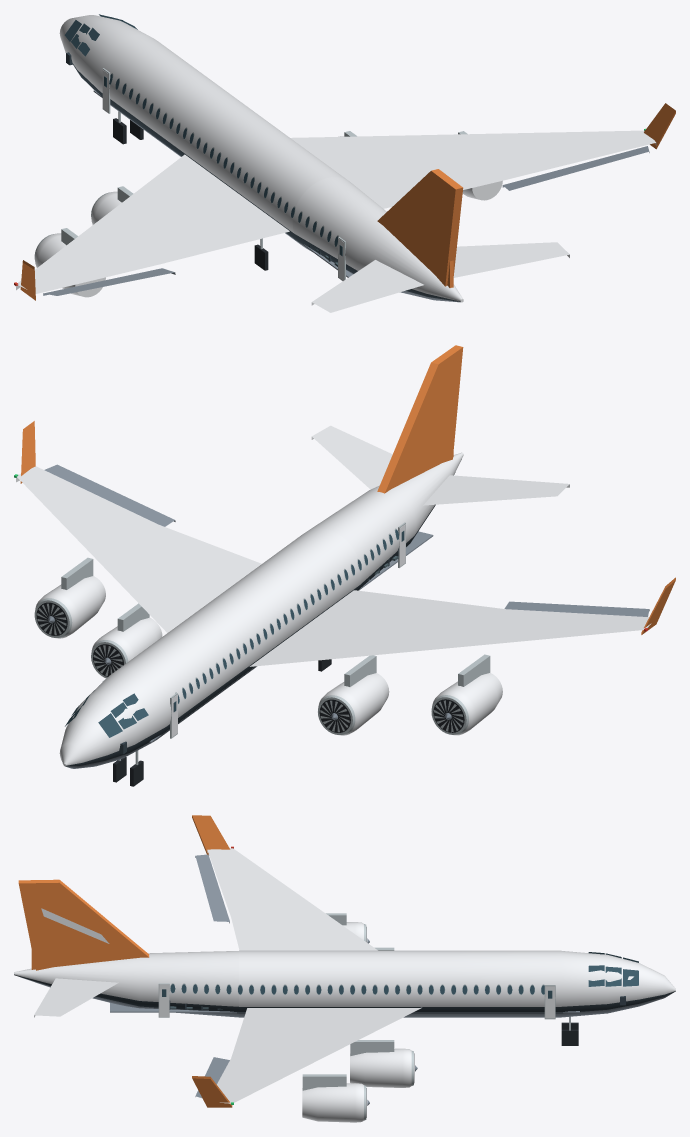
The model's file is meridian.glb.
3 renders of one model, top to bottom at view 1: azimuth 30°, elevation 25°; view 2: azimuth 150°, elevation 25°; view 3: azimuth 270°, elevation 25°, orthographic. The views are drawn at different scales.
Parts seen in each view (by area): view 1: wing_l, wing_r, body_mid, body_front, body_aft, tail, elevator, engine_l, cabin_windows, aileron_r, aileron_l, gear (+3 smaller); view 2: wing_l, wing_r, body_front, body_mid, engine_l, body_aft, engine_r, tail, elevator, cabin_windows, aileron_r, aileron_l (+3 smaller); view 3: body_mid, body_front, wing_r, wing_l, body_aft, tail, engine_r, cabin_windows, elevator, aileron_l, doors, windshield (+2 smaller).
Boxes of the visible parts, x1,y1,x2,y2 form: wing_l: [14, 154, 289, 300]; wing_r: [290, 103, 675, 208]; body_mid: [165, 84, 349, 244]; body_front: [59, 15, 221, 152]; body_aft: [292, 177, 463, 302]; tail: [377, 169, 463, 286]; elevator: [311, 242, 569, 312]; engine_l: [34, 186, 133, 297]; cabin_windows: [109, 73, 338, 247]; aileron_r: [502, 146, 649, 190]; aileron_l: [43, 268, 175, 295]; gear: [113, 111, 268, 270]; wing_l: [249, 577, 675, 666]; wing_r: [14, 421, 261, 632]; body_front: [59, 621, 234, 768]; body_mid: [178, 528, 361, 689]; engine_l: [318, 654, 502, 735]; body_aft: [308, 452, 463, 590]; engine_r: [34, 557, 162, 678]; tail: [377, 345, 463, 493]; elevator: [311, 425, 569, 505]; cabin_windows: [175, 528, 398, 704]; aileron_r: [44, 464, 175, 526]; aileron_l: [504, 601, 649, 616]; body_mid: [239, 950, 450, 1017]; body_front: [451, 950, 675, 1017]; wing_r: [192, 1007, 421, 1107]; wing_l: [192, 815, 377, 950]; body_aft: [14, 951, 238, 1017]; tail: [18, 879, 149, 970]; engine_r: [302, 1040, 417, 1122]; cabin_windows: [170, 983, 544, 995]; elevator: [34, 978, 118, 1017]; aileron_l: [195, 854, 229, 923]; doors: [158, 983, 555, 1019]; windshield: [588, 952, 638, 986].
Size of the model in its own units: 43.86 by 12.57 by 47.
